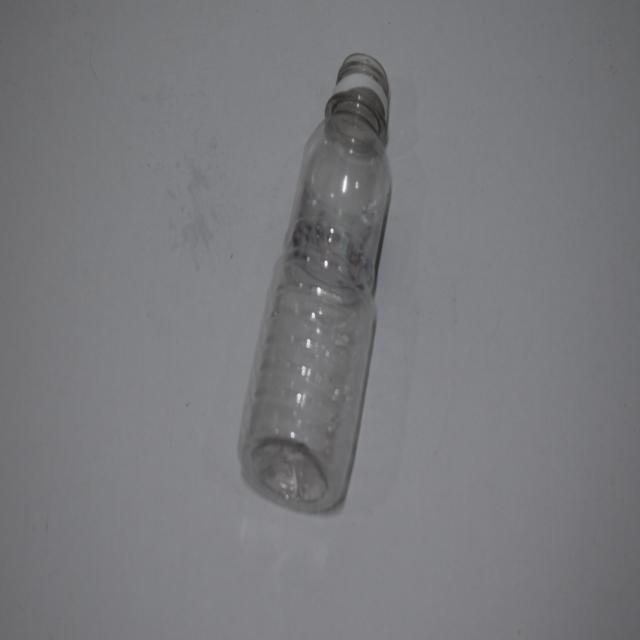bottle: (237, 28, 405, 538)
